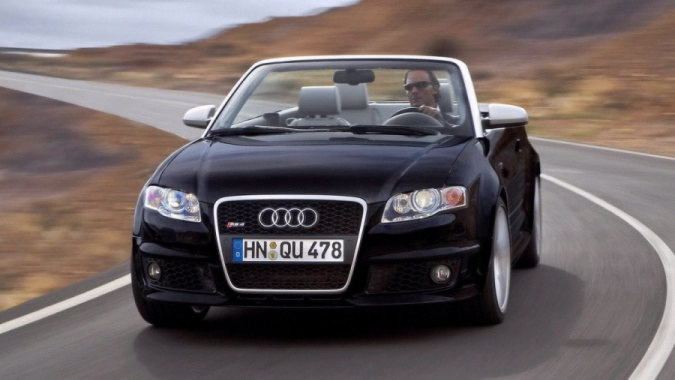audi: (257, 205, 320, 239)
